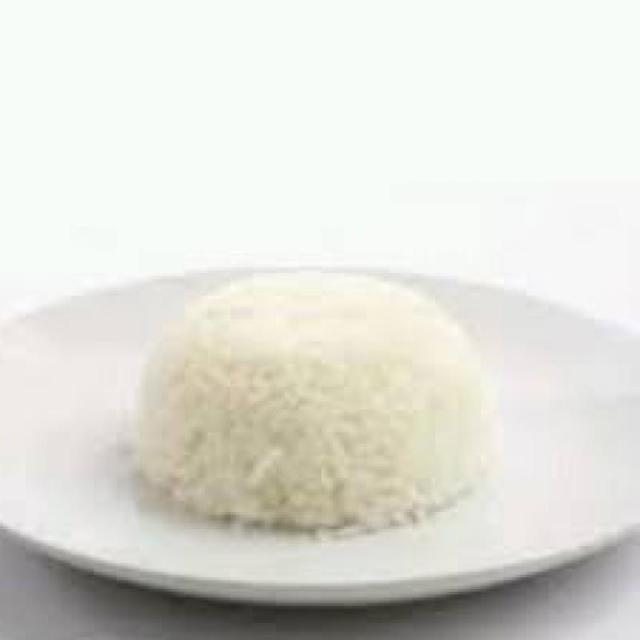nasi_putih: (135, 272, 494, 534)
